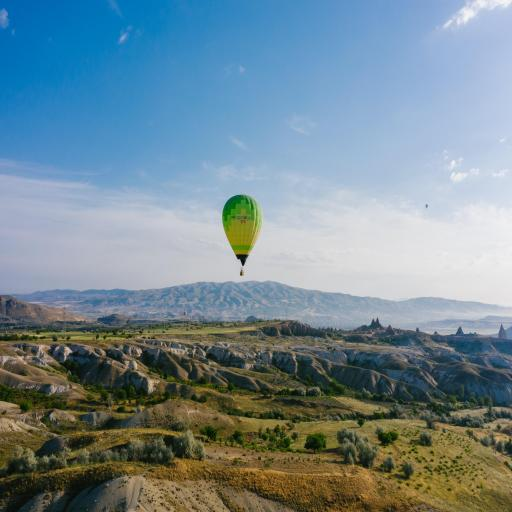hot air ballon: (221, 193, 262, 275)
